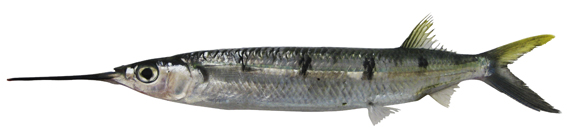fish: (6, 13, 563, 126)
